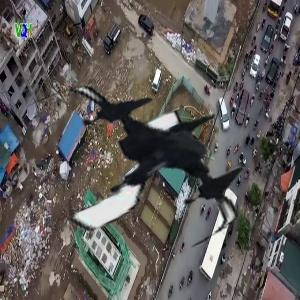drone: (26, 57, 246, 277)
